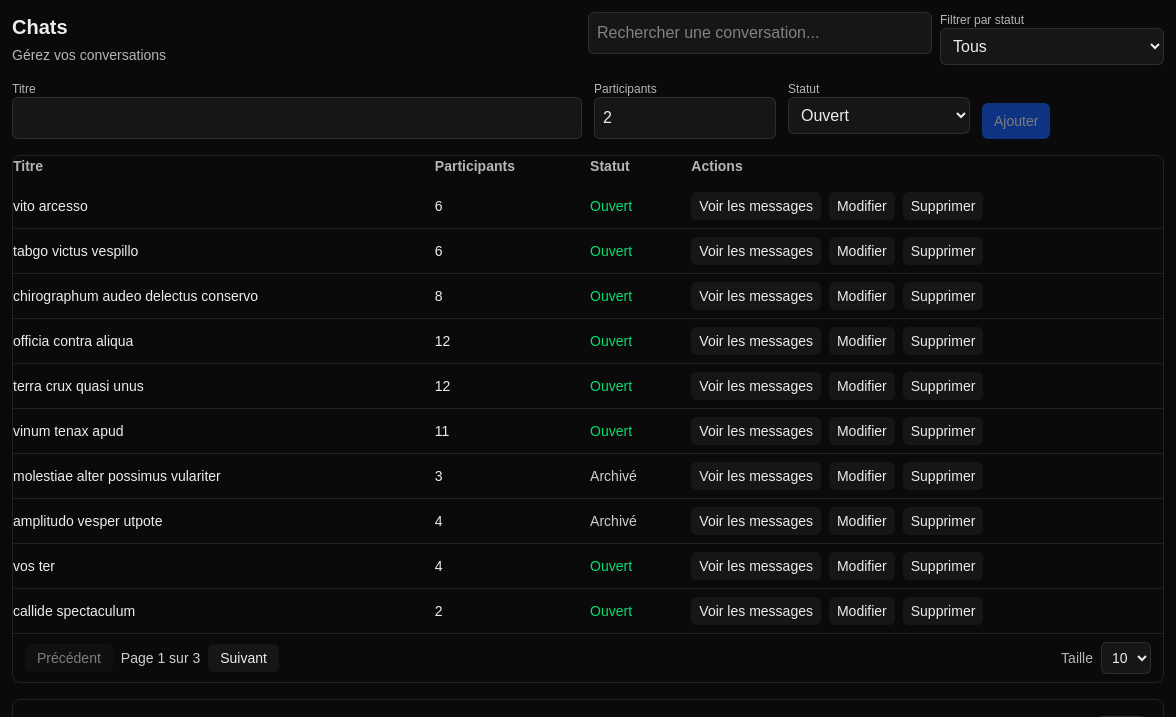
Test: ChatsPage › édition inline: enregistrer persiste et annonce ARIA
The width and height of the screenshot is (1176, 717).
Note: Créer une ligne à éditer (statut par défaut Ouvert)
Type "Edit Save" into the field labelled "Titre" at [297, 118], box [12,97,582,139]
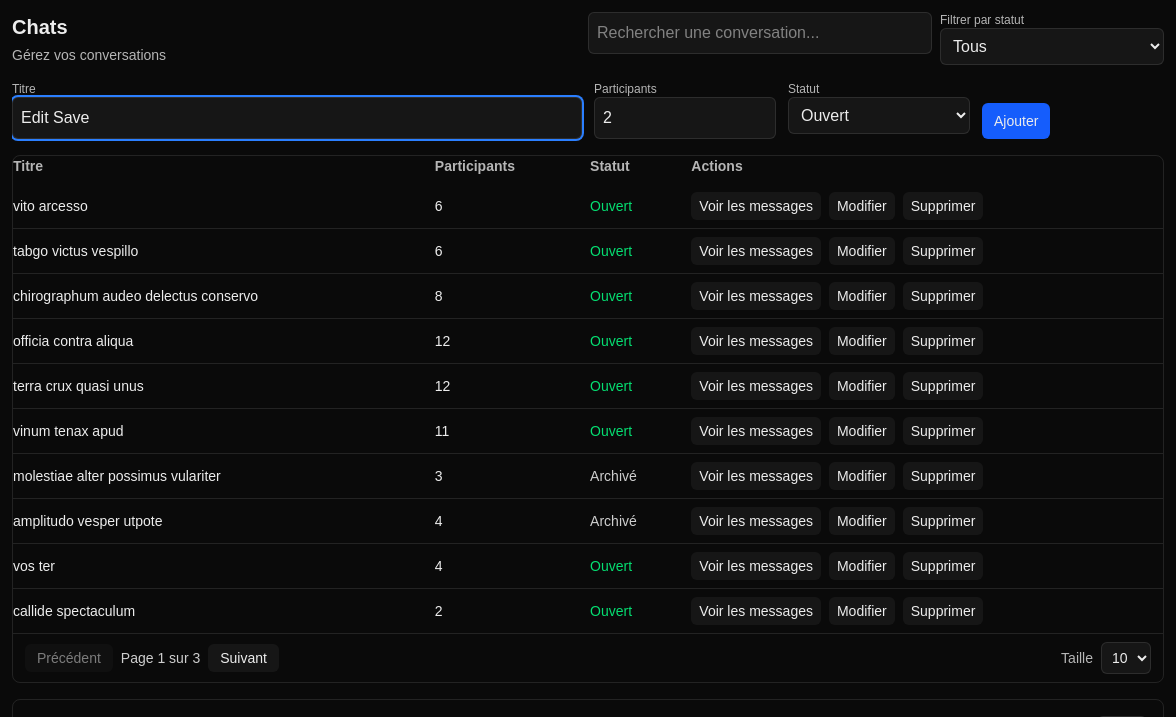
Click the button "Ajouter" at [1016, 121], box [982,103,1050,139]
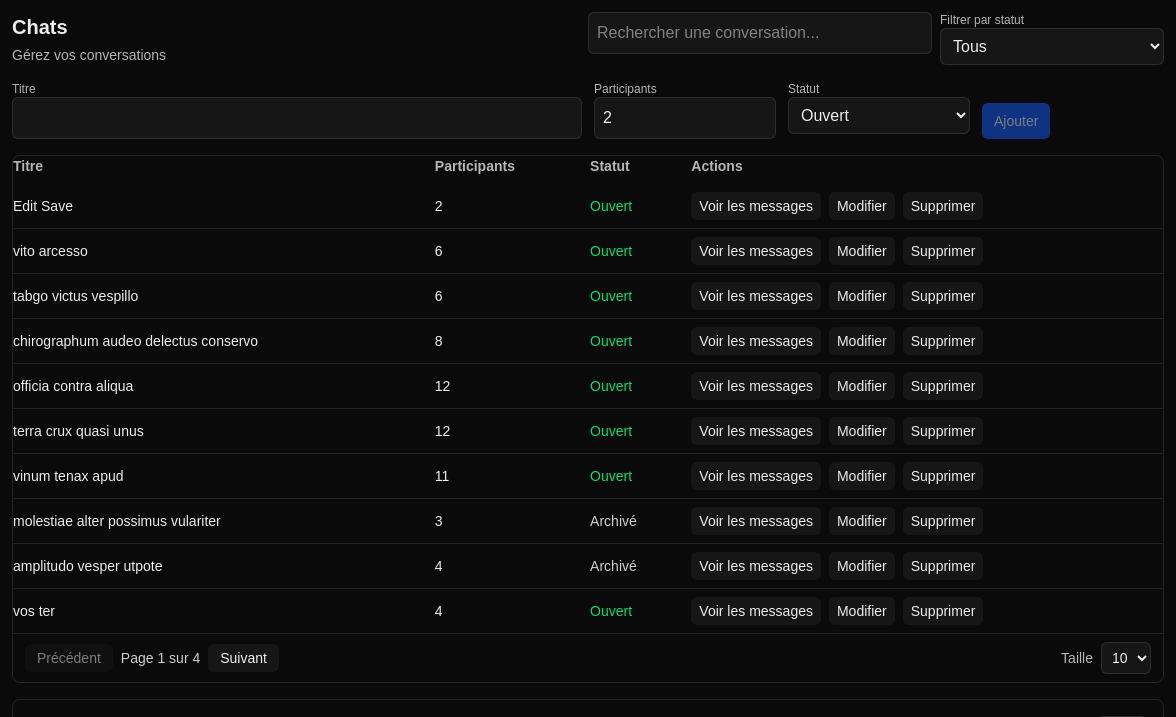
Click the button "Modifier" in the row of "Edit Save" at [862, 206], box [829,192,895,220]
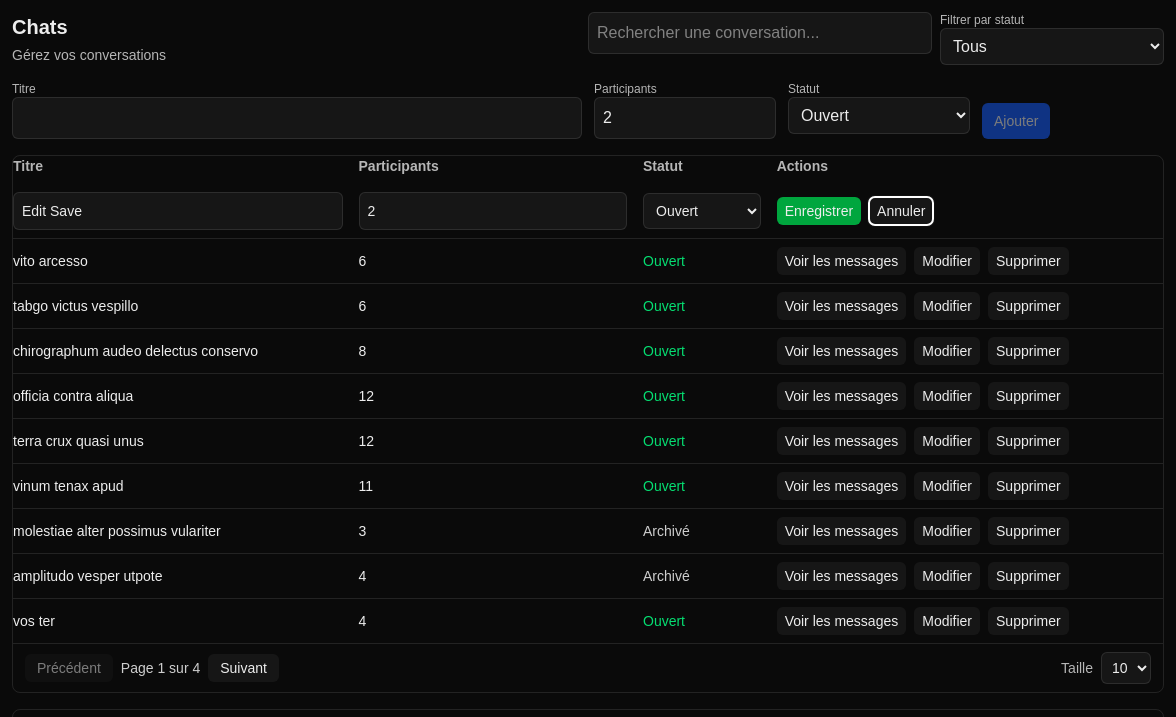
Note: Modifier le titre
Replace the text in the field showing "Edit Save" with "Edit Saved" at [178, 211], box [13,192,342,230]
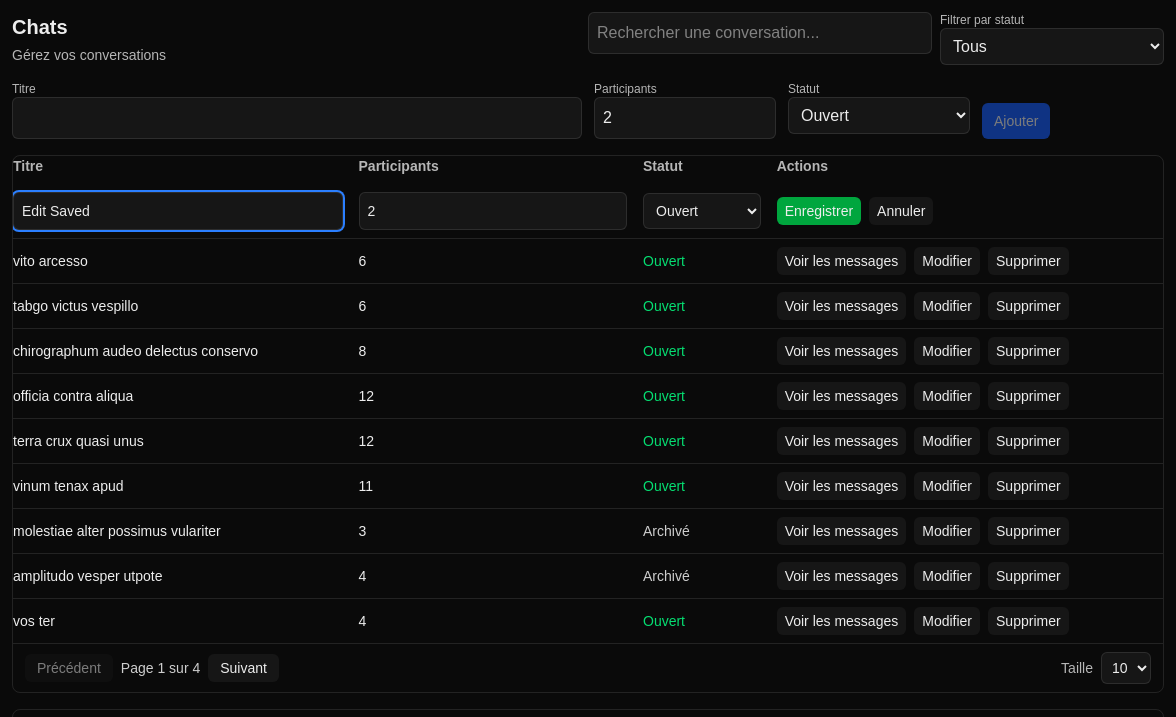
Note: Changer le statut via le select d'édition
Select "Archivé" in the 3rd dropdown at [702, 211], box [643,193,761,229]
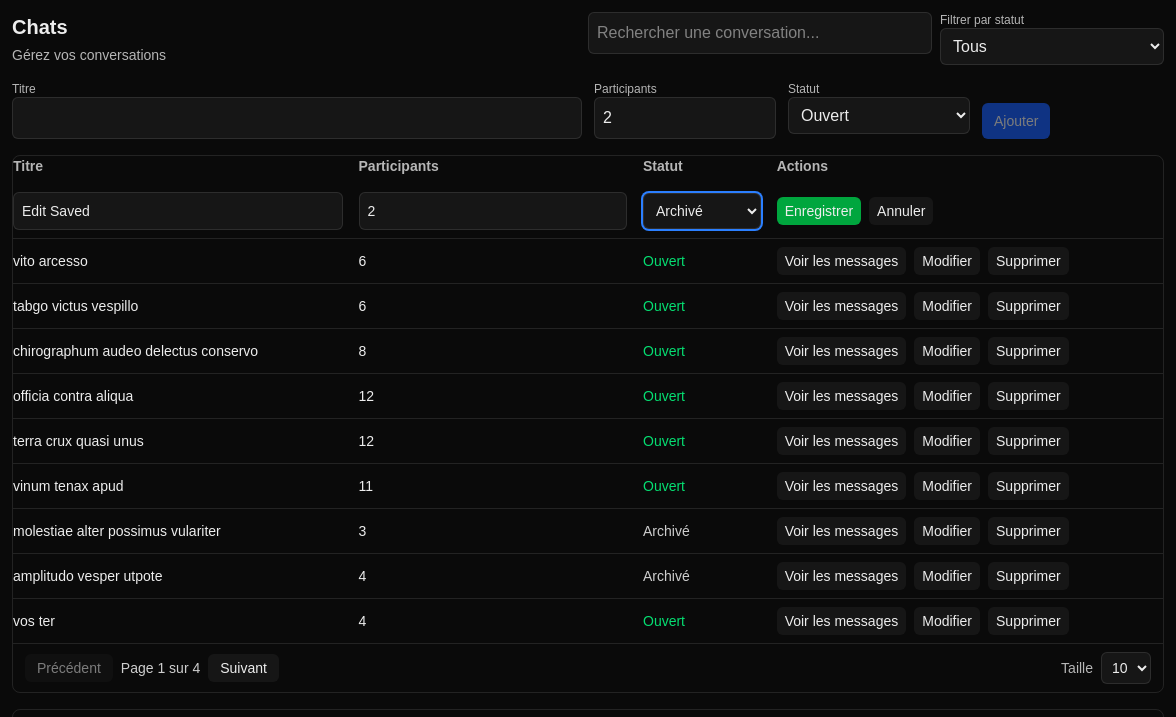
Click the button "Enregistrer" at [819, 211], box [777,197,861,225]
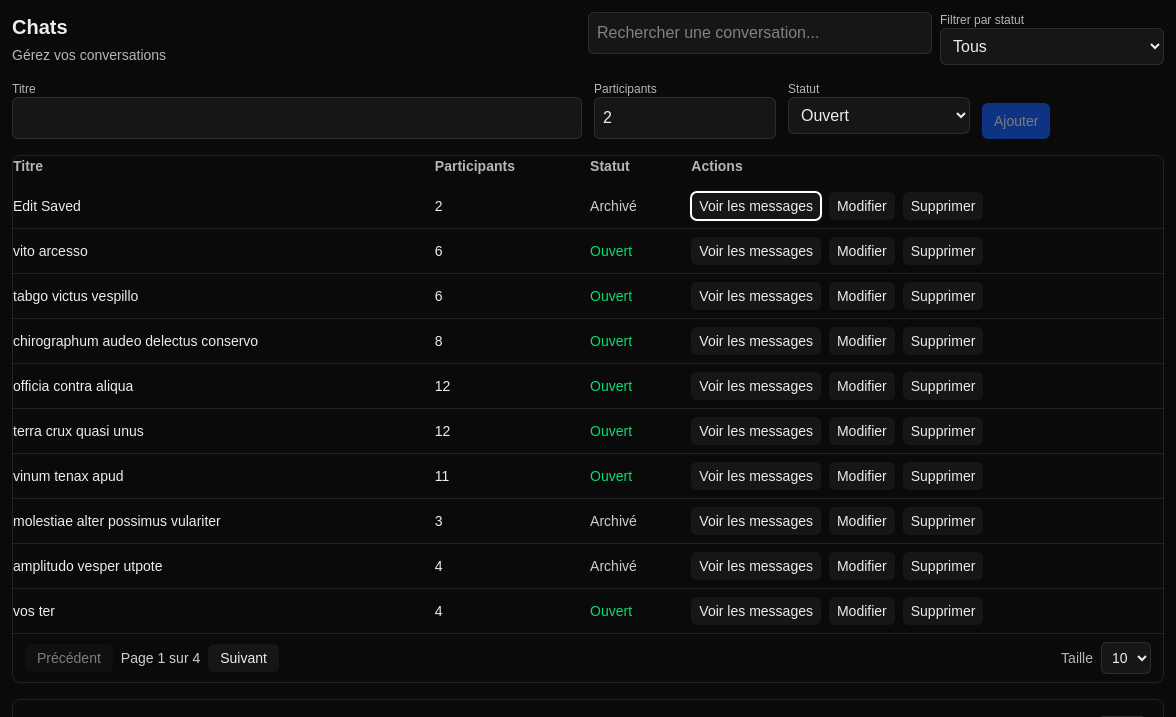
expect the text "Edit Saved" is shown: met, box [13,198,81,214]
expect the text "Archivé" in the row of "Edit Saved" is shown: met, box [590,198,637,214]
